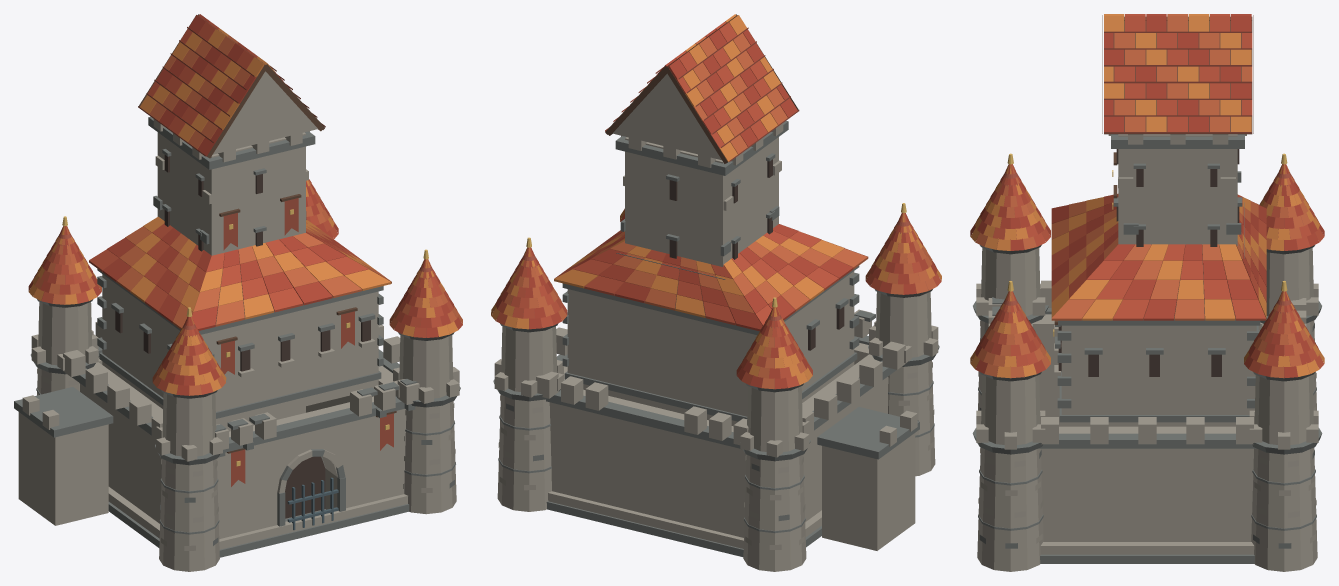
The model's file is ENV_Castle_LOD0.glb.
3 views of the same model, side by side, from view 1: azimuth 30°, elevation 25°; view 2: azimuth 150°, elevation 25°; view 3: azimuth 270°, elevation 25° (orthographic). The views are drawn at different scales.
Parts seen in each view (by area): view 1: ENV_Castle_LOD0_keep_stone, ENV_Castle_LOD0_walls_stone, ENV_Castle_LOD0_keep_roofTiles, ENV_Castle_LOD0_completion_stone, ENV_Castle_LOD0_towers_raised_roofTiles, ENV_Castle_LOD0_towers_raised_stone, ENV_Castle_LOD0_keep_stoneDark, ENV_Castle_LOD0_walls_stoneDark, ENV_Castle_LOD0_completion_stoneDark, ENV_Castle_LOD0_keep_roof, ENV_Castle_LOD0_foundation_stone, ENV_Castle_LOD0_foundation_stoneDark (+5 smaller); view 2: ENV_Castle_LOD0_walls_stone, ENV_Castle_LOD0_keep_stone, ENV_Castle_LOD0_keep_roofTiles, ENV_Castle_LOD0_completion_stone, ENV_Castle_LOD0_towers_raised_roofTiles, ENV_Castle_LOD0_towers_raised_stone, ENV_Castle_LOD0_keep_stoneDark, ENV_Castle_LOD0_walls_stoneDark, ENV_Castle_LOD0_completion_stoneDark, ENV_Castle_LOD0_foundation_stone, ENV_Castle_LOD0_foundation_stoneDark, ENV_Castle_LOD0_keep_woodDark (+2 smaller); view 3: ENV_Castle_LOD0_walls_stone, ENV_Castle_LOD0_keep_roofTiles, ENV_Castle_LOD0_keep_stone, ENV_Castle_LOD0_towers_raised_roofTiles, ENV_Castle_LOD0_towers_raised_stone, ENV_Castle_LOD0_keep_stoneDark, ENV_Castle_LOD0_walls_stoneDark, ENV_Castle_LOD0_completion_stone, ENV_Castle_LOD0_foundation_stone, ENV_Castle_LOD0_keep_roof, ENV_Castle_LOD0_foundation_stoneDark, ENV_Castle_LOD0_keep_woodDark (+3 smaller).
Part boxes in pixels (x1,y1,x2,y2): ENV_Castle_LOD0_keep_stone: [102, 71, 378, 431]; ENV_Castle_LOD0_walls_stone: [31, 334, 459, 571]; ENV_Castle_LOD0_keep_roofTiles: [89, 14, 391, 330]; ENV_Castle_LOD0_completion_stone: [18, 322, 419, 525]; ENV_Castle_LOD0_towers_raised_roofTiles: [28, 179, 462, 395]; ENV_Castle_LOD0_towers_raised_stone: [38, 302, 453, 456]; ENV_Castle_LOD0_keep_stoneDark: [97, 116, 383, 418]; ENV_Castle_LOD0_walls_stoneDark: [30, 346, 460, 545]; ENV_Castle_LOD0_completion_stoneDark: [14, 379, 417, 457]; ENV_Castle_LOD0_keep_roof: [138, 27, 354, 374]; ENV_Castle_LOD0_foundation_stone: [108, 487, 407, 549]; ENV_Castle_LOD0_foundation_stoneDark: [108, 456, 409, 557]; ENV_Castle_LOD0_walls_stone: [494, 325, 938, 571]; ENV_Castle_LOD0_keep_stone: [567, 73, 854, 426]; ENV_Castle_LOD0_keep_roofTiles: [554, 14, 868, 331]; ENV_Castle_LOD0_completion_stone: [536, 309, 917, 550]; ENV_Castle_LOD0_towers_raised_roofTiles: [491, 208, 941, 389]; ENV_Castle_LOD0_towers_raised_stone: [501, 292, 931, 451]; ENV_Castle_LOD0_keep_stoneDark: [562, 120, 859, 421]; ENV_Castle_LOD0_walls_stoneDark: [493, 335, 939, 533]; ENV_Castle_LOD0_completion_stoneDark: [817, 310, 919, 459]; ENV_Castle_LOD0_foundation_stone: [548, 491, 821, 548]; ENV_Castle_LOD0_foundation_stoneDark: [546, 501, 821, 556]; ENV_Castle_LOD0_keep_woodDark: [605, 14, 798, 324]; ENV_Castle_LOD0_walls_stone: [976, 283, 1318, 571]; ENV_Castle_LOD0_keep_roofTiles: [1051, 14, 1266, 320]; ENV_Castle_LOD0_keep_stone: [1054, 134, 1256, 426]; ENV_Castle_LOD0_towers_raised_roofTiles: [970, 164, 1324, 378]; ENV_Castle_LOD0_towers_raised_stone: [981, 248, 1313, 444]; ENV_Castle_LOD0_keep_stoneDark: [1055, 134, 1260, 422]; ENV_Castle_LOD0_walls_stoneDark: [972, 301, 1322, 548]; ENV_Castle_LOD0_completion_stone: [988, 280, 1306, 444]; ENV_Castle_LOD0_foundation_stone: [1040, 542, 1254, 554]; ENV_Castle_LOD0_keep_roof: [1104, 31, 1252, 133]; ENV_Castle_LOD0_foundation_stoneDark: [1040, 554, 1254, 563]; ENV_Castle_LOD0_keep_woodDark: [1054, 15, 1266, 324].
Size of the model in its own units: 15.11 by 18.18 by 12.18.
